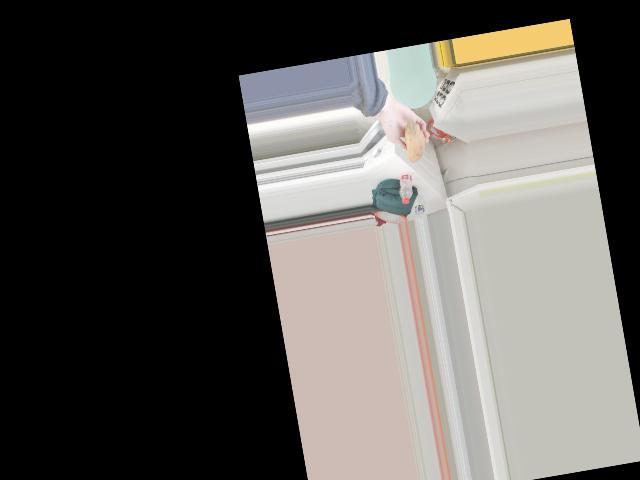sweet_potato: (402, 122, 428, 172)
